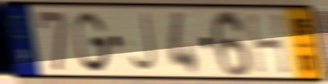4: (168, 9, 202, 77)
6: (209, 7, 254, 80)
7: (33, 9, 69, 73)
G: (72, 9, 113, 74)
H: (244, 11, 294, 77)
J: (128, 10, 159, 74)
